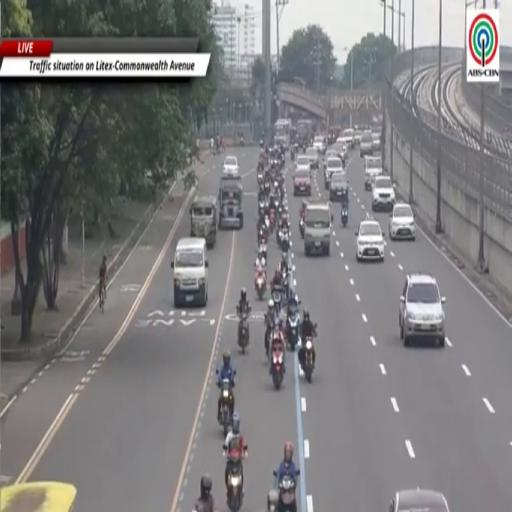bus: (274, 119, 291, 149), (296, 120, 314, 147)
car: (399, 272, 446, 346), (304, 202, 333, 257), (389, 488, 449, 511), (356, 217, 384, 262), (389, 203, 416, 239), (372, 175, 395, 212), (325, 156, 344, 189), (365, 156, 383, 190), (330, 171, 348, 201), (294, 169, 311, 196), (360, 131, 373, 157), (333, 139, 347, 163), (223, 156, 238, 177), (340, 128, 354, 149), (295, 155, 311, 173), (324, 149, 338, 169), (306, 148, 319, 169), (313, 136, 326, 154), (372, 133, 381, 151), (354, 131, 362, 145)
jeepney: (0, 483, 76, 511), (190, 197, 218, 248), (219, 176, 243, 229)
motorcycle: (227, 451, 244, 511), (220, 379, 233, 437), (278, 475, 296, 511), (271, 344, 284, 390), (287, 308, 300, 350), (238, 311, 250, 354), (303, 336, 313, 382), (264, 316, 272, 358), (255, 271, 266, 299), (273, 287, 284, 313), (282, 271, 291, 300), (267, 489, 278, 511), (280, 229, 290, 253), (193, 503, 218, 511), (269, 206, 276, 233), (258, 230, 267, 245), (342, 205, 348, 227), (258, 200, 266, 216), (299, 218, 305, 238), (259, 244, 266, 261), (276, 228, 282, 247), (257, 172, 263, 184), (291, 147, 294, 161), (240, 137, 244, 146)
